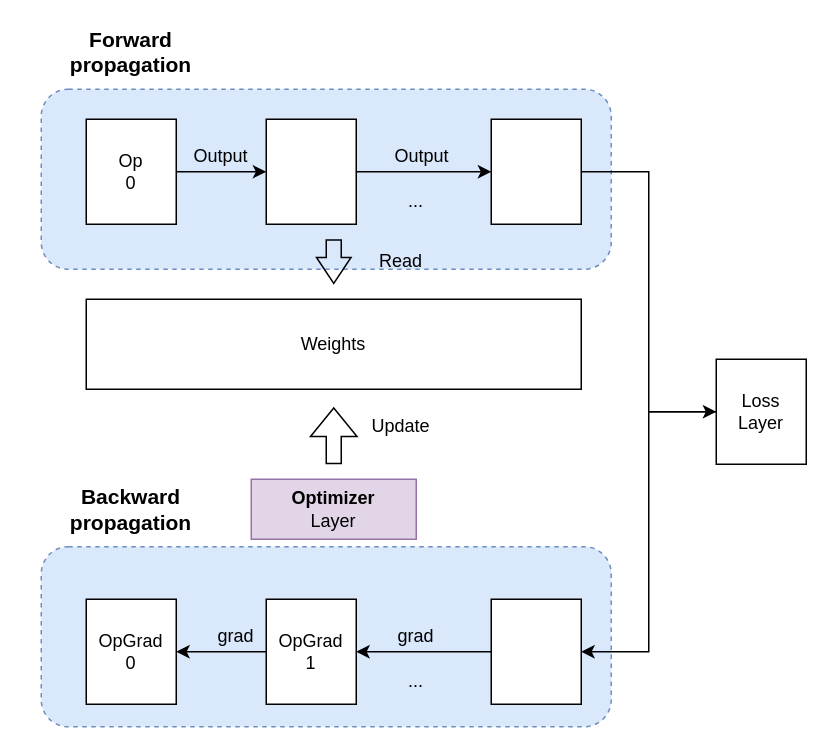
Some shapes in this 833 by 753 pixel diagram are drawn without their labels. The box of each missing label's shape, as (x1, y1, x2, y2) in pixels:
Op 1: (265, 118, 356, 224)
Op n: (490, 118, 581, 224)
OpGrad n: (490, 598, 581, 704)
